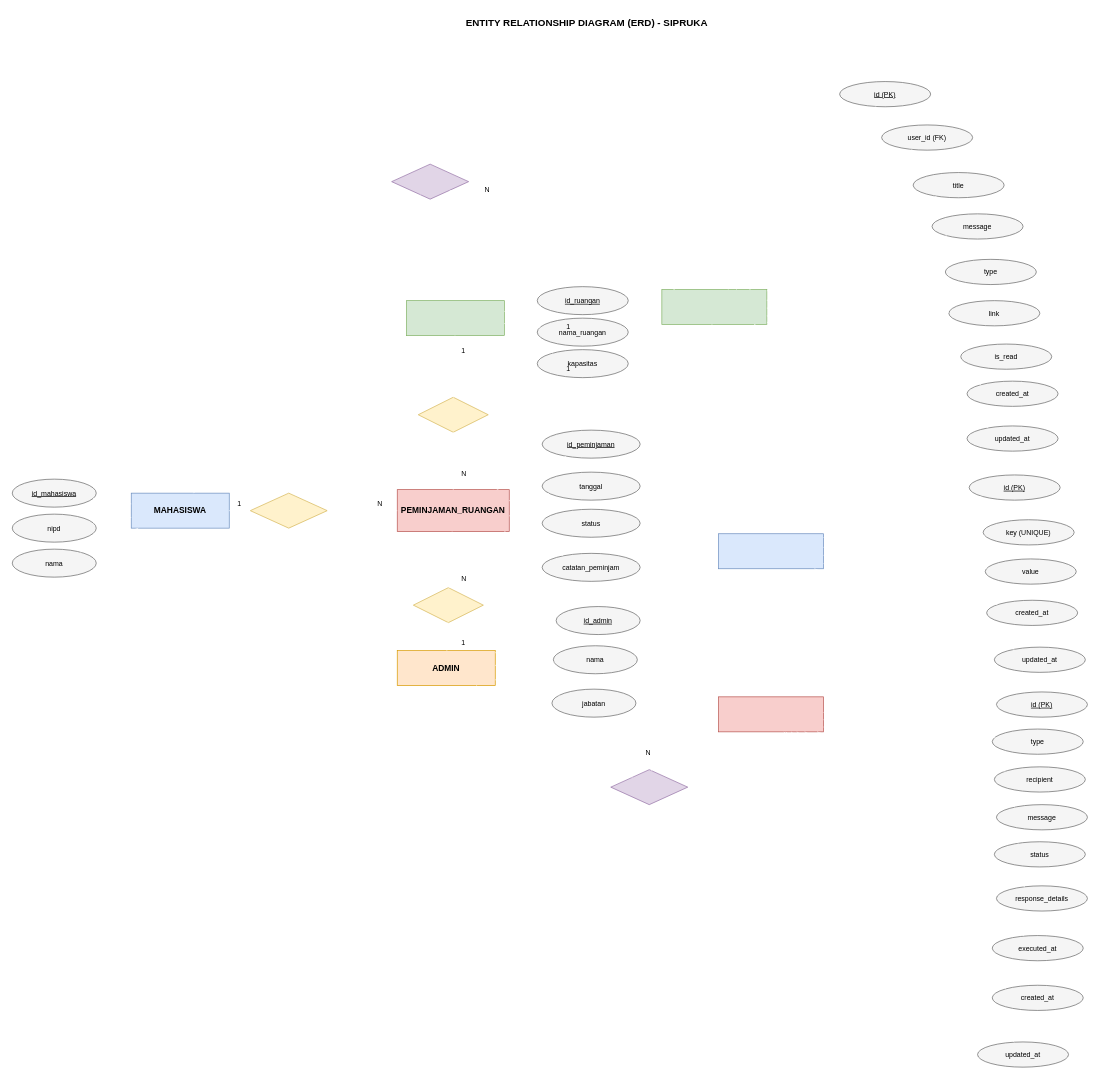
This 1100x1079 diagram has some shape labels left out. The centre of each missing label's shape, as x and y in pixels:
"APP_CONFIGS" goes at pixel 771 551.
"Dipinjam" goes at pixel 453 414.
"Diverifikasi" goes at pixel 448 605.
"Menerima (ADM)" goes at pixel 649 787.
"Menerima (MHS)" goes at pixel 430 181.
"Mengajukan" goes at pixel 288 510.
"NOTIFICATIONS" goes at pixel 714 306.
"RUANGAN" goes at pixel 455 318.
"SCHEDULER_LOGS" goes at pixel 771 714.
